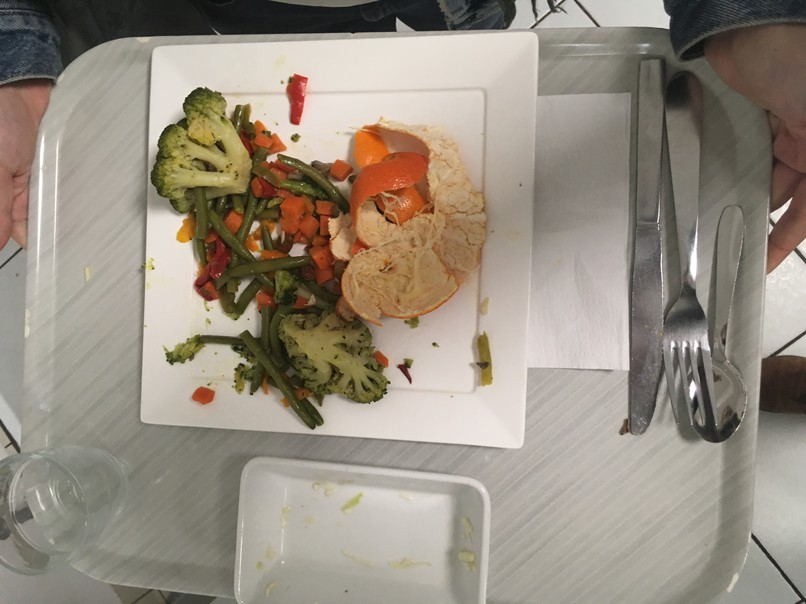cup: (1, 435, 130, 567)
cutlery: (665, 69, 717, 436), (691, 203, 759, 462), (630, 52, 664, 435)
orga: (349, 128, 487, 324), (183, 217, 350, 310), (144, 84, 260, 211), (283, 312, 401, 415), (265, 150, 347, 216)
trash: (534, 89, 630, 372)
